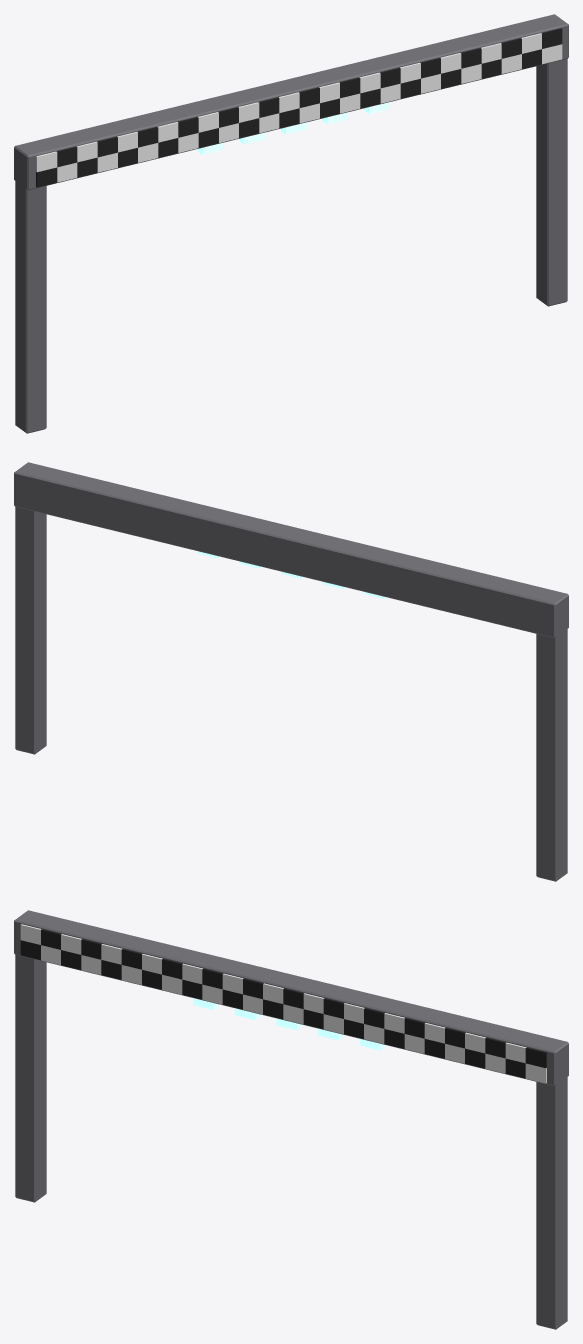
File: StartGate.fbx
The picture shows the model from 3 angles, top to bottom: view 1: azimuth 30°, elevation 25°; view 2: azimuth 150°, elevation 25°; view 3: azimuth 330°, elevation 25°; orthographic projection.
Visible parts, largest first — view 1: Gate_Frame, Gate_CheckerWhite, Gate_CheckerBlack, Gate_Lights; view 2: Gate_Frame; view 3: Gate_Frame, Gate_CheckerBlack, Gate_CheckerWhite, Gate_Lights.
Boxes of the visible parts, x1,y1,x2,y2 form: Gate_Frame: (14, 14, 568, 433); Gate_CheckerWhite: (36, 33, 562, 182); Gate_CheckerBlack: (36, 28, 562, 187); Gate_Lights: (197, 102, 389, 154); Gate_Frame: (14, 462, 568, 881); Gate_Frame: (14, 910, 568, 1329); Gate_CheckerBlack: (20, 929, 546, 1078); Gate_CheckerWhite: (20, 924, 546, 1083); Gate_Lights: (193, 998, 385, 1050).
Size of the model in its own units: 13 by 6.4 by 0.64.
